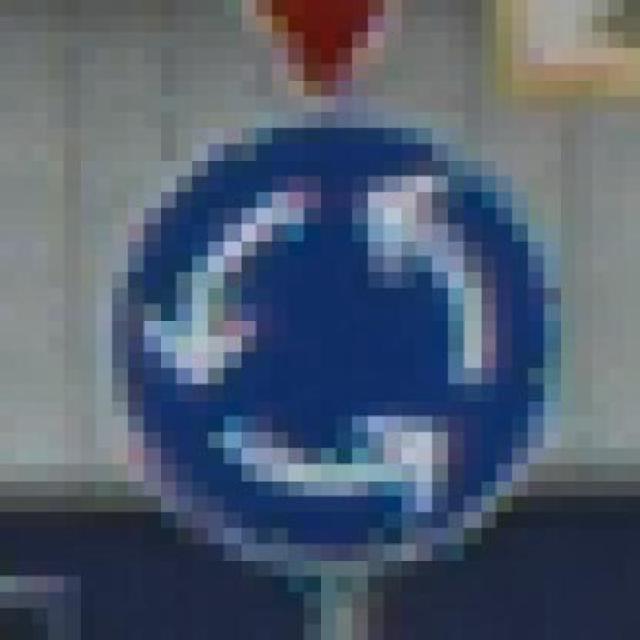Round-About: (79, 79, 576, 576)
